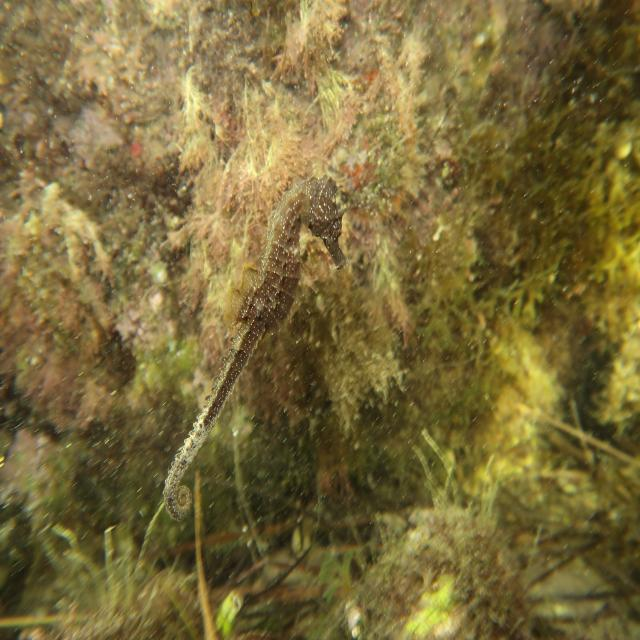Guttu: (298, 164, 350, 284)
